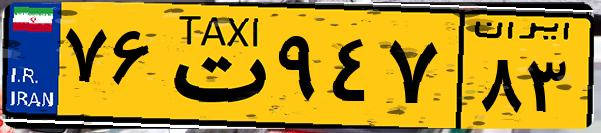3: (525, 38, 570, 115)
4: (330, 28, 385, 110)
6: (110, 28, 158, 98)
7: (385, 28, 445, 110), (57, 26, 110, 100)
8: (475, 38, 525, 113)
9: (270, 28, 330, 110)
ت: (158, 12, 270, 120)
